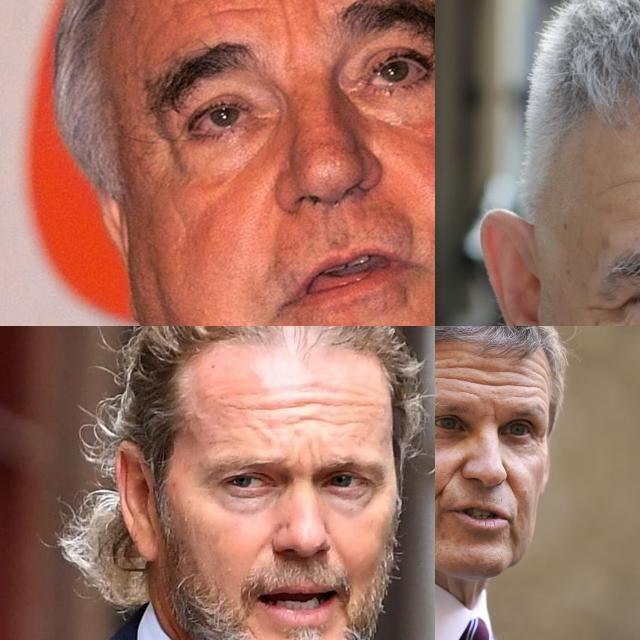crows_feet: (138, 122, 188, 170), (580, 294, 632, 318)
forehead: (205, 0, 270, 20), (290, 390, 322, 422), (239, 395, 285, 417), (442, 346, 468, 382), (604, 169, 640, 194), (499, 364, 526, 396), (330, 394, 374, 412), (472, 358, 493, 394), (531, 362, 547, 398), (328, 414, 360, 430)
frown_line: (278, 10, 298, 60), (489, 402, 501, 420)
gummy_smile: (439, 459, 458, 495), (504, 471, 522, 495)
